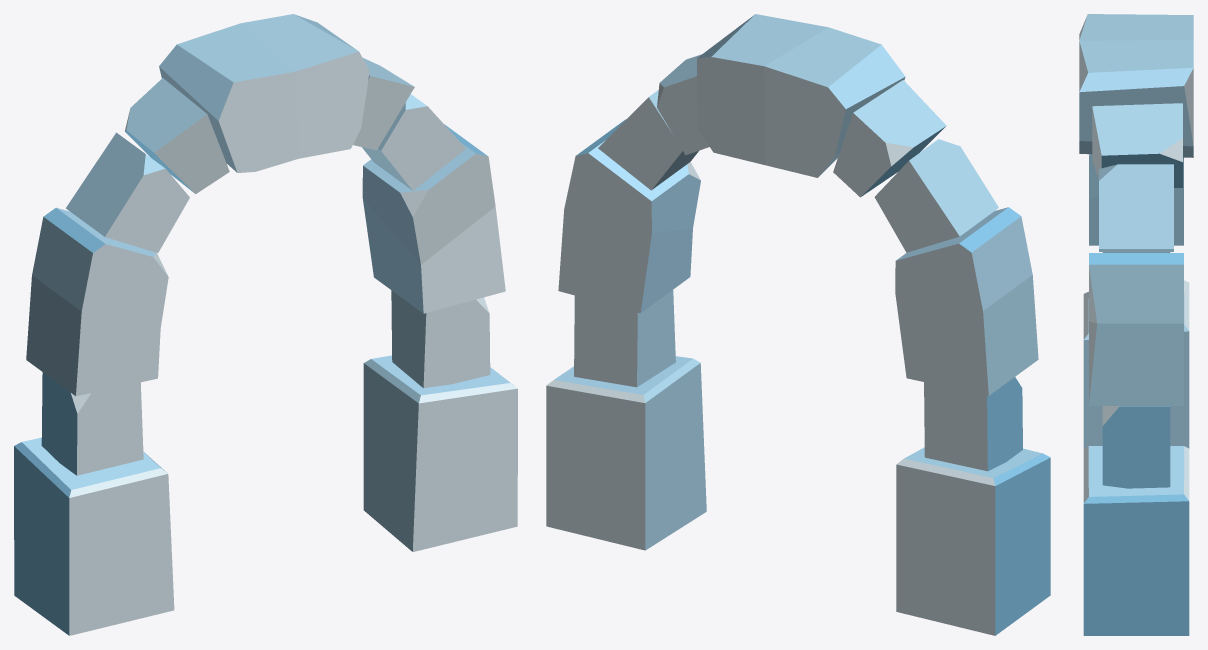
The model's file is cong.fbx.
3 views of the same model, side by side, from view 1: azimuth 30°, elevation 25°; view 2: azimuth 150°, elevation 25°; view 3: azimuth 270°, elevation 25° (orthographic). The views are drawn at different scales.
Visible parts, largest first — view 1: cong; view 2: cong; view 3: cong.
Part boxes in pixels (x1,y1,x2,y2): cong: (14, 14, 517, 635); cong: (546, 14, 1050, 635); cong: (1079, 14, 1193, 635).
Bounding box in the file's own units: 310 × 340 × 71.37.
